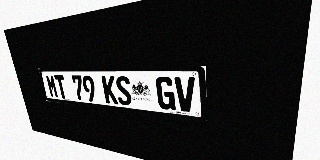7: (71, 75, 86, 101)
9: (81, 75, 97, 102)
G: (155, 76, 176, 110)
K: (101, 76, 118, 104)
M: (45, 75, 59, 98)
S: (115, 76, 133, 106)
T: (54, 75, 68, 99)
V: (174, 77, 196, 113)
